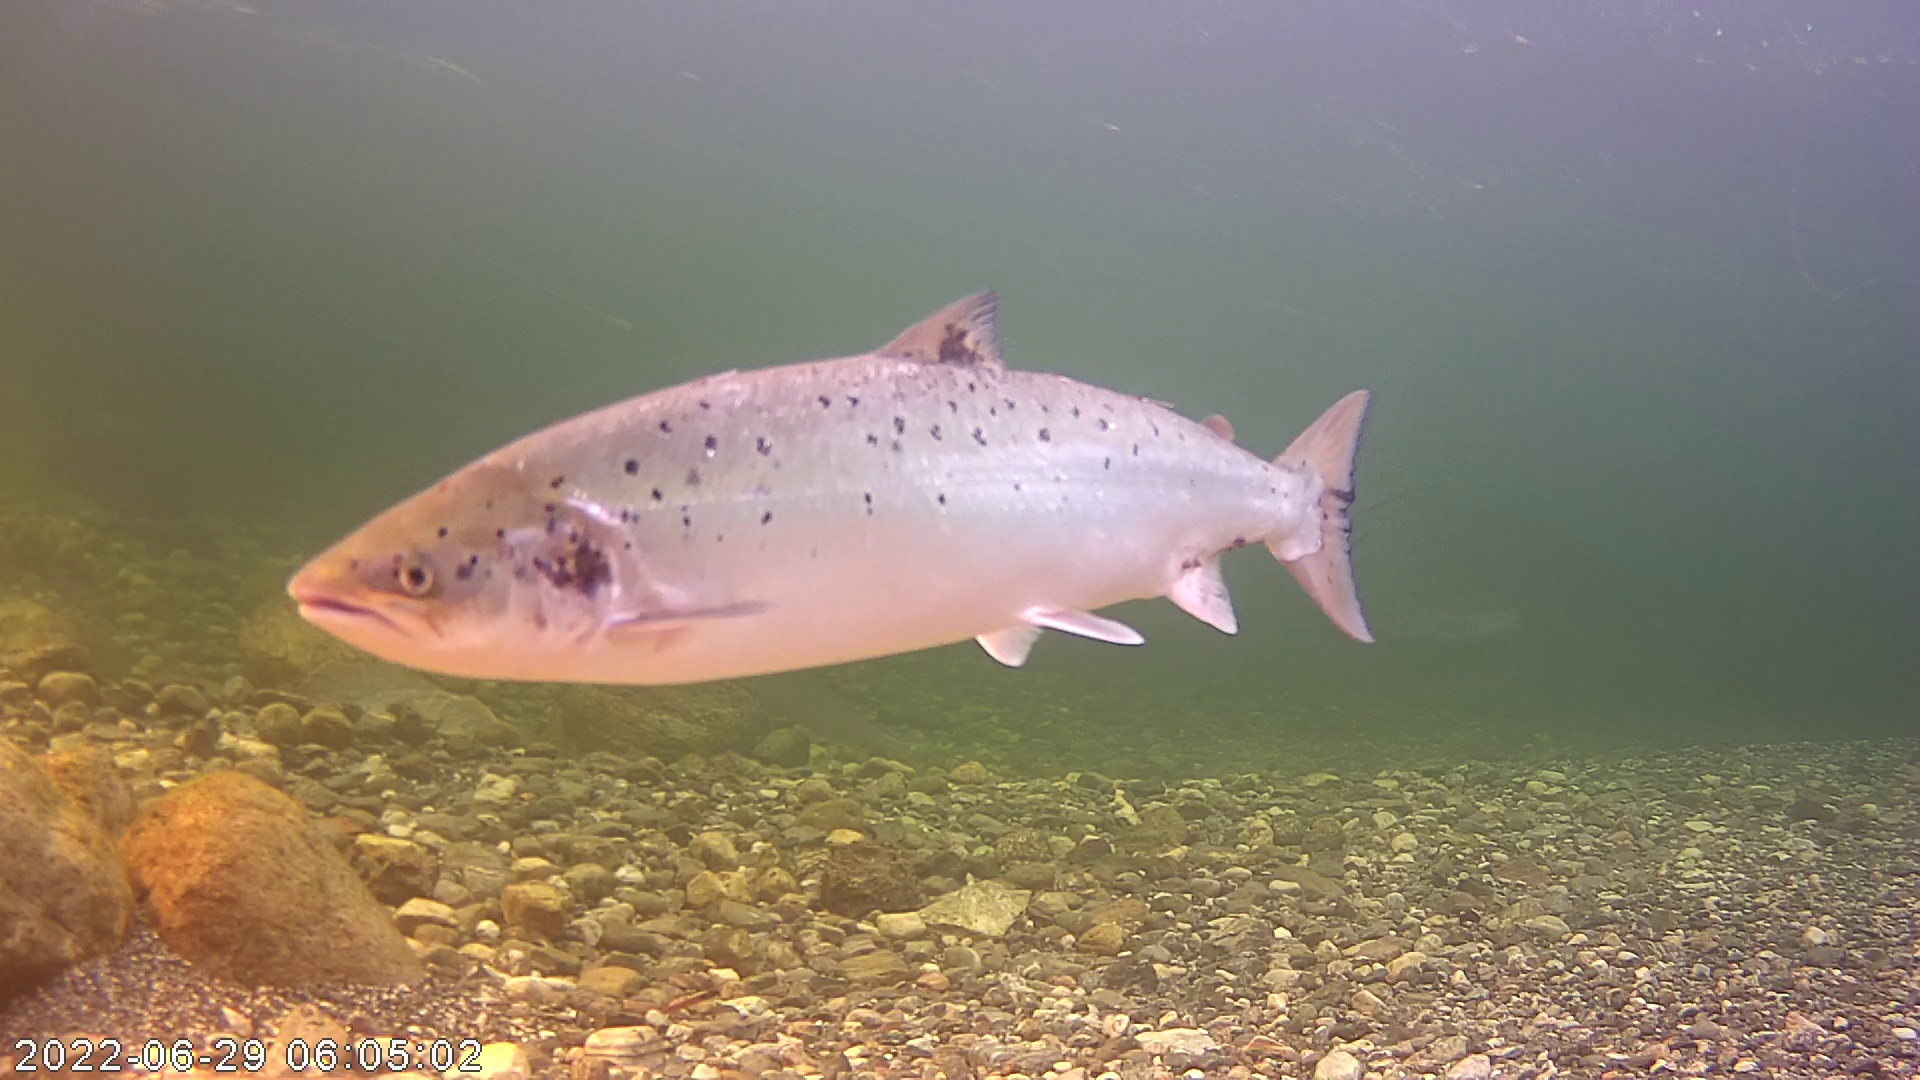salmon: (280, 285, 1382, 691)
